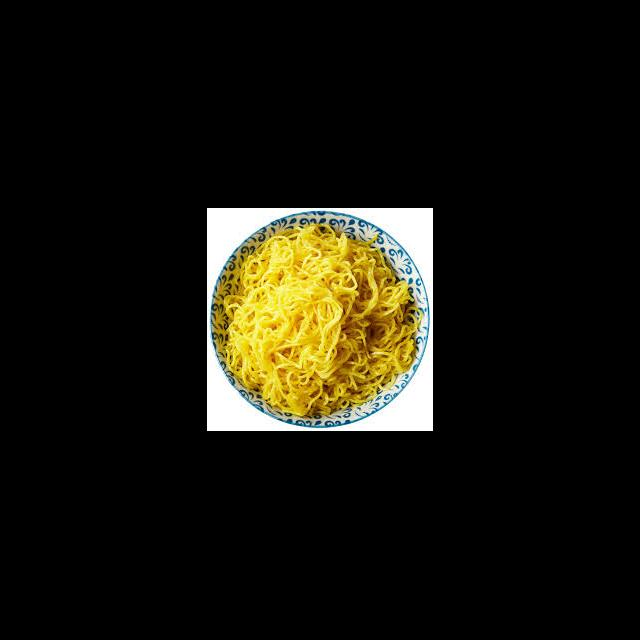noodles: (225, 228, 414, 418)
